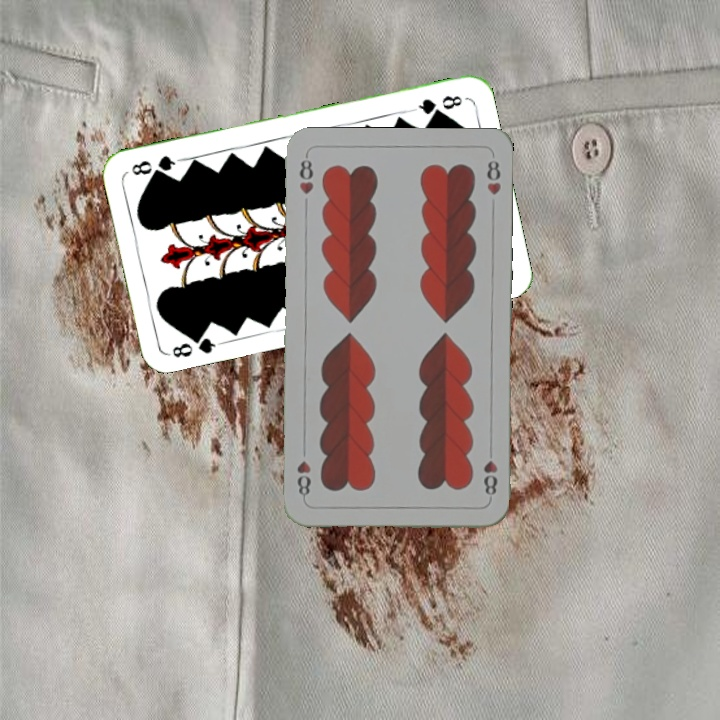G8: (165, 328, 224, 361), (409, 91, 465, 117)
H8: (480, 443, 500, 498), (295, 152, 316, 197)
